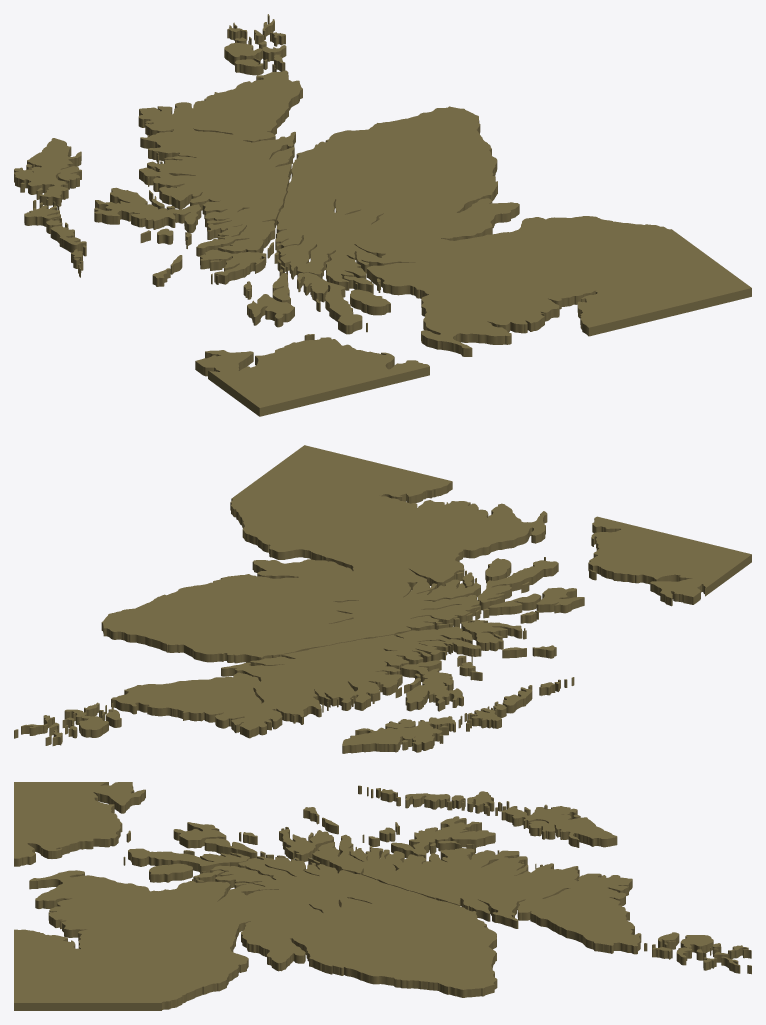
The model's file is MapLandMesh.fbx.
The picture shows the model from 3 angles, top to bottom: view 1: azimuth 30°, elevation 25°; view 2: azimuth 150°, elevation 25°; view 3: azimuth 270°, elevation 25°; orthographic projection. The views are drawn at different scales.
Visible parts, largest first — view 1: path1.001; view 2: path1.001; view 3: path1.001.
Part boxes in pixels (x1,y1,x2,y2): path1.001: [14, 14, 751, 416]; path1.001: [14, 445, 751, 753]; path1.001: [14, 782, 751, 1010].
Size of the model in its own units: 100 by 1.7 by 141.
